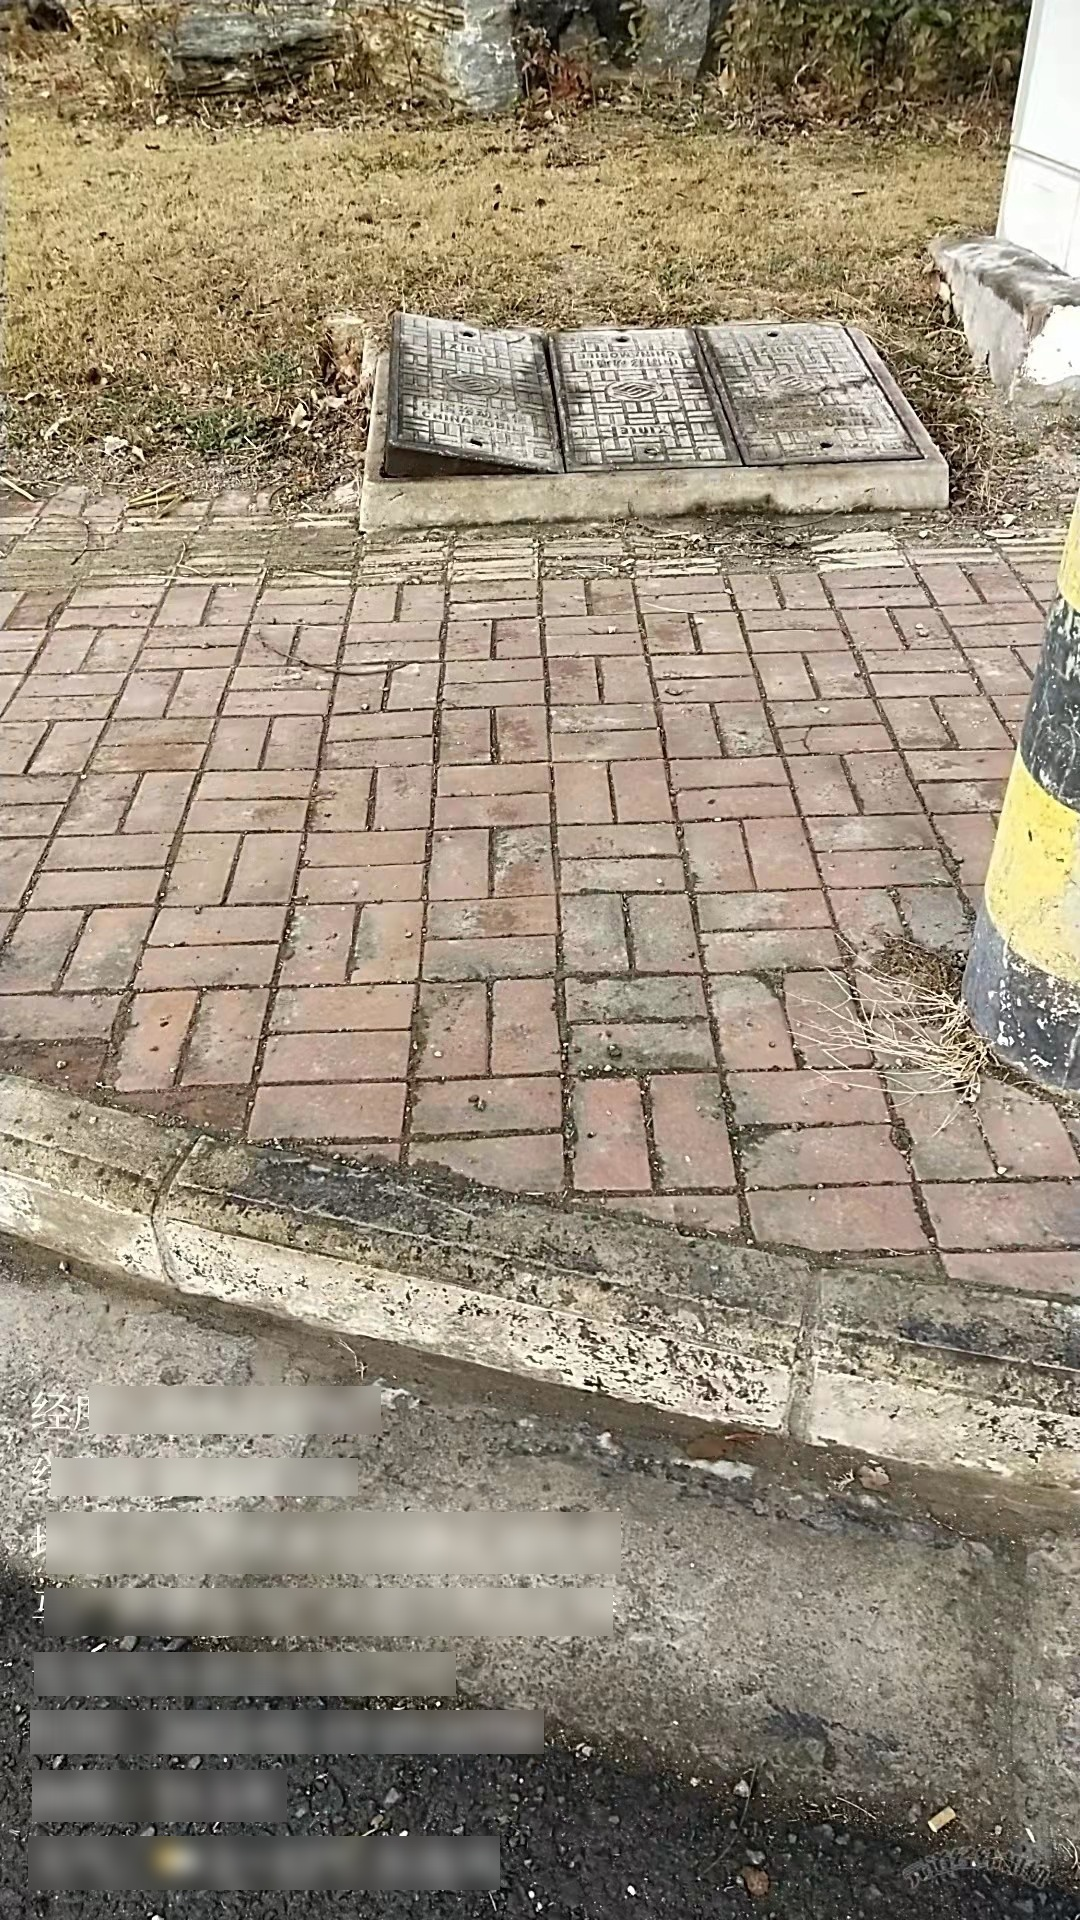uncovered: (361, 302, 957, 496)
